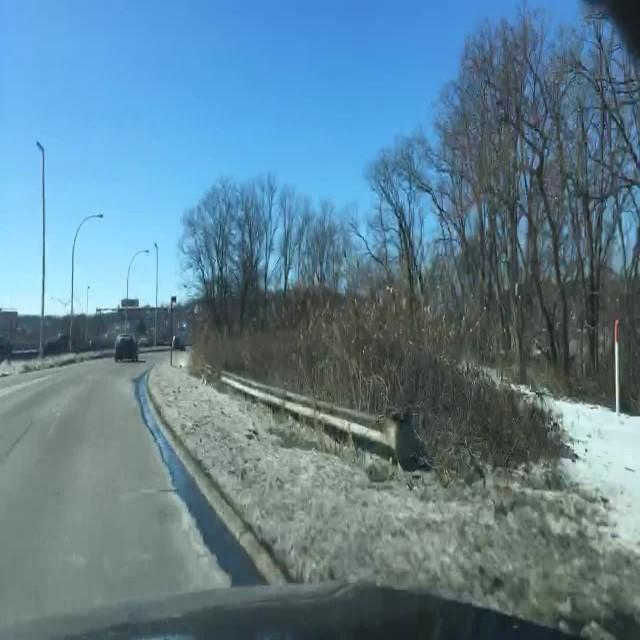normal: (93, 317, 147, 374)
